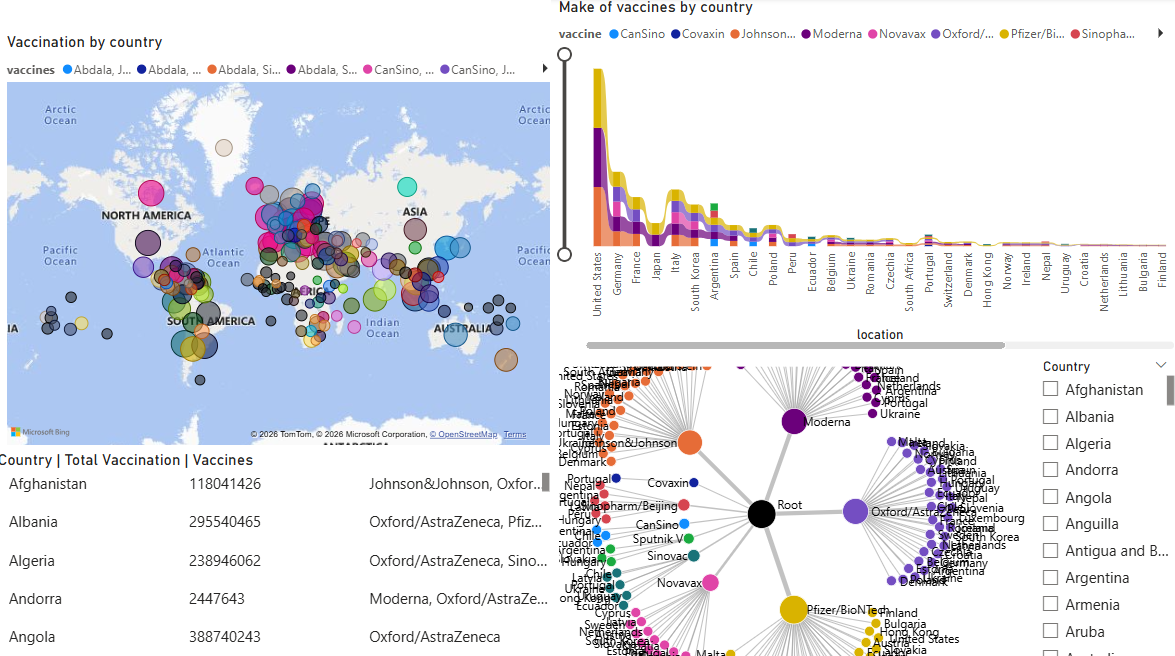

The dashboard page shown, as its layout file describes it:
{"tool":"powerbi","page":{"name":"COVID Map","canvas":[1280,720],"ordinal":0},"visuals":[{"type":"map","title":"Vaccination by country","fields":{"Size":["Sum(country_vaccinations.people_vaccinated_per_hundred)"],"Series":["country_vaccinations.vaccines"],"Category":["country_vaccinations.country"]},"box":[9.6,0,596.2,489],"z":0},{"type":"multiRowCard","title":"Country | Total Vaccination | Vaccines","fields":{"Values":["country_vaccinations.country","Sum(country_vaccinations.total_vaccinations)","country_vaccinations.vaccines"]},"box":[0,489,605.8,230.8],"z":1000},{"type":"journeyGraph1859AB39DB23421488ADF752BCB05167","fields":{"category":["country_vaccinations_by_manufacturer.vaccine","country_vaccinations.country"],"value":["CountNonNull(country_vaccinations.country)"]},"box":[605.8,394.1,525.4,325.7],"z":2000},{"type":"ribbonChart","title":"Make of vaccines by country","fields":{"Y":["Sum(country_vaccinations.total_vaccinations)"],"Series":["country_vaccinations_by_manufacturer.vaccine"],"Category":["country_vaccinations_by_manufacturer.location"]},"box":[605.8,0,674.2,384.7],"z":3000},{"type":"slicer","fields":{"Values":["country_vaccinations.country"]},"box":[1120.5,384.7,159.5,335.1],"z":4000}]}

Visuals, with their boxes in screenshot pixels (x1, y1, x2, y2), scaled from the page's 1280x720 canvas onto the 1175x656 screenshot:
"Vaccination by country" map: 9, 0, 556, 446
"Country | Total Vaccination | Vaccines" multiRowCard: 0, 446, 556, 655
journeyGraph1859AB39DB23421488ADF752BCB05167 - country_vaccinations_by_manufacturer.vaccine x country_vaccinations.country: 556, 359, 1038, 655
"Make of vaccines by country" ribbonChart: 556, 0, 1174, 351
slicer - country_vaccinations.country: 1029, 351, 1174, 655
